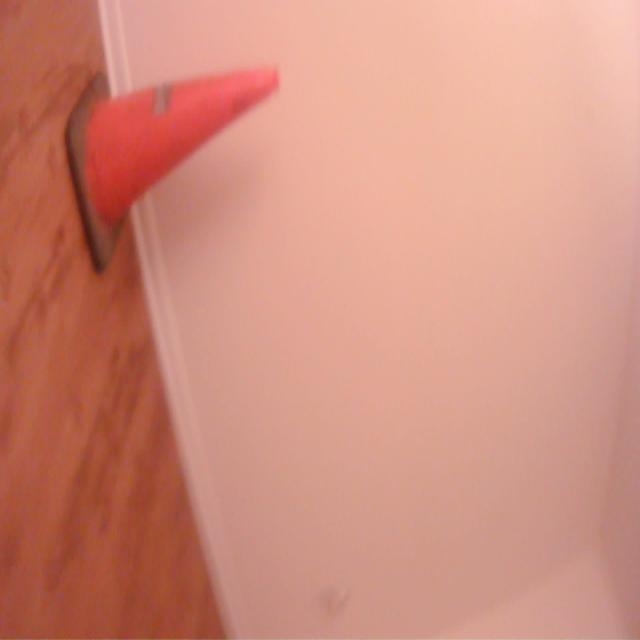traffic cone: (62, 61, 285, 277)
